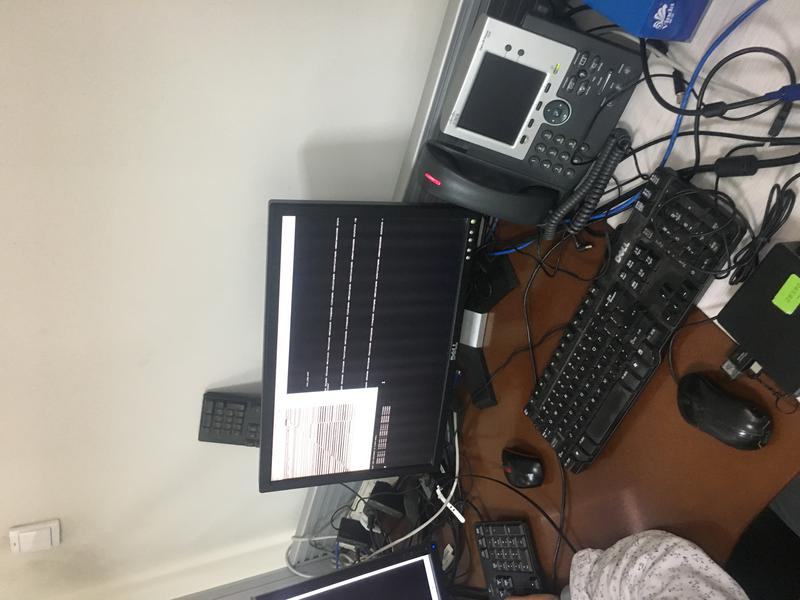xrandr_pass: (272, 383, 379, 482)
